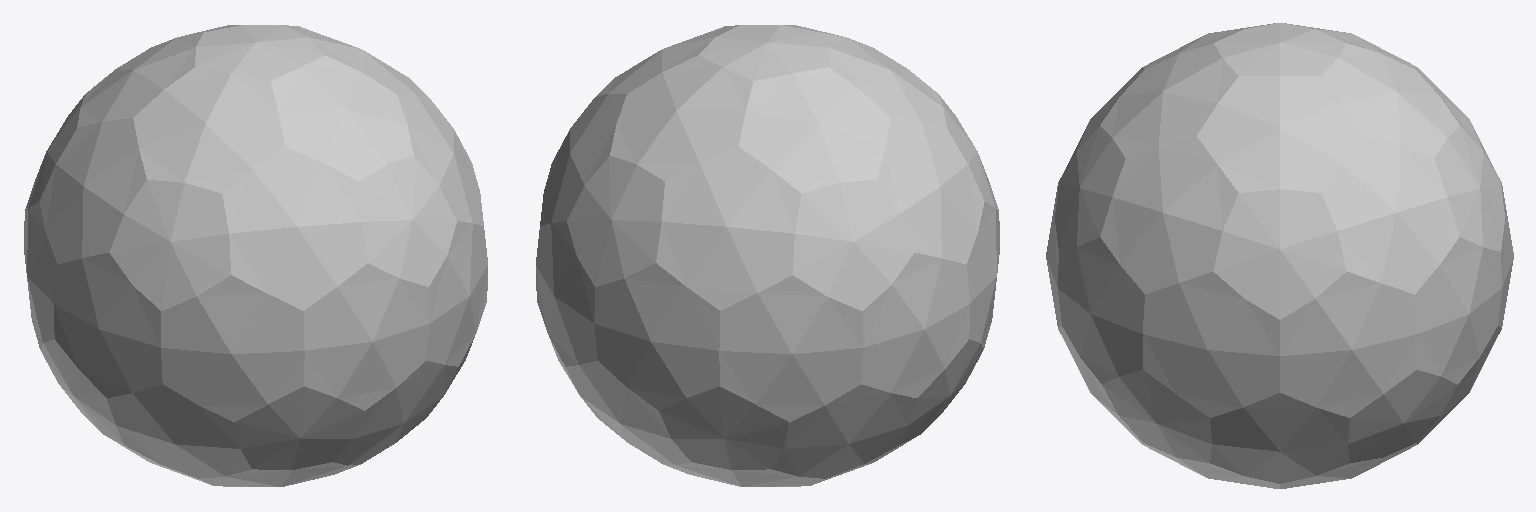
File: art_flash.obj
3 renders of one model, left to right at view 1: azimuth 30°, elevation 25°; view 2: azimuth 150°, elevation 25°; view 3: azimuth 270°, elevation 25°, orthographic.
Visible parts, largest first — view 1: Icosphere; view 2: Icosphere; view 3: Icosphere.
Part boxes in pixels (x1,y1,x2,y2): Icosphere: (24,25,487,486); Icosphere: (536,25,999,486); Icosphere: (1046,23,1513,488).
Bounding box in the file's own units: 6.41 × 6.46 × 6.42.